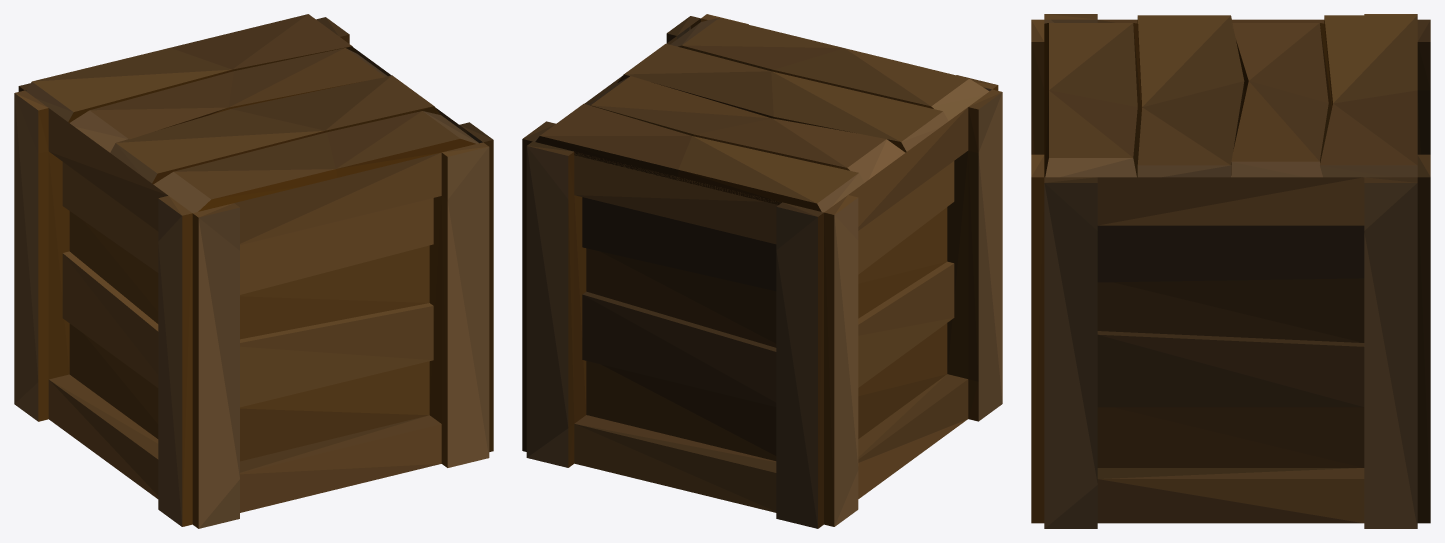
Rendered from crate.obj.
3 renders of one model, left to right at view 1: azimuth 30°, elevation 25°; view 2: azimuth 150°, elevation 25°; view 3: azimuth 270°, elevation 25°, orthographic. The views are drawn at different scales.
Visible parts, largest first — view 1: Object Crate 2026-09-13_17-19-24; view 2: Object Crate 2026-09-13_17-19-24; view 3: Object Crate 2026-09-13_17-19-24.
Part boxes in pixels (bbox=[...]): Object Crate 2026-09-13_17-19-24: bbox=[14, 14, 493, 528]; Object Crate 2026-09-13_17-19-24: bbox=[522, 14, 1002, 528]; Object Crate 2026-09-13_17-19-24: bbox=[1031, 14, 1430, 528].
Bounding box in the file's own units: 90 × 88 × 90.
